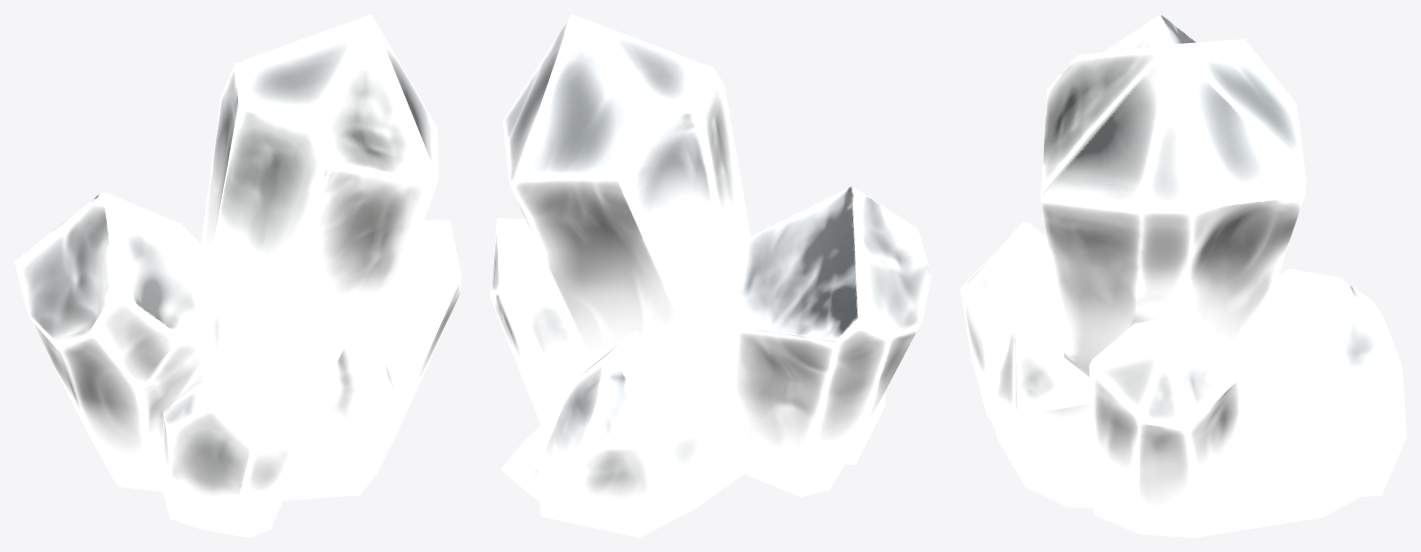
The model's file is crystal_white.fbx.
3 views of the same model, side by side, from view 1: azimuth 30°, elevation 25°; view 2: azimuth 150°, elevation 25°; view 3: azimuth 270°, elevation 25° (orthographic). The views are drawn at different scales.
Visible parts, largest first — view 1: crystal_white; view 2: crystal_white; view 3: crystal_white.
Boxes of the visible parts, box(x1,y1,x2,y2) form: crystal_white: box(14, 14, 461, 537); crystal_white: box(490, 14, 931, 537); crystal_white: box(960, 14, 1406, 537).
Bounding box in the file's own units: 1.66 × 1.62 × 1.35.
